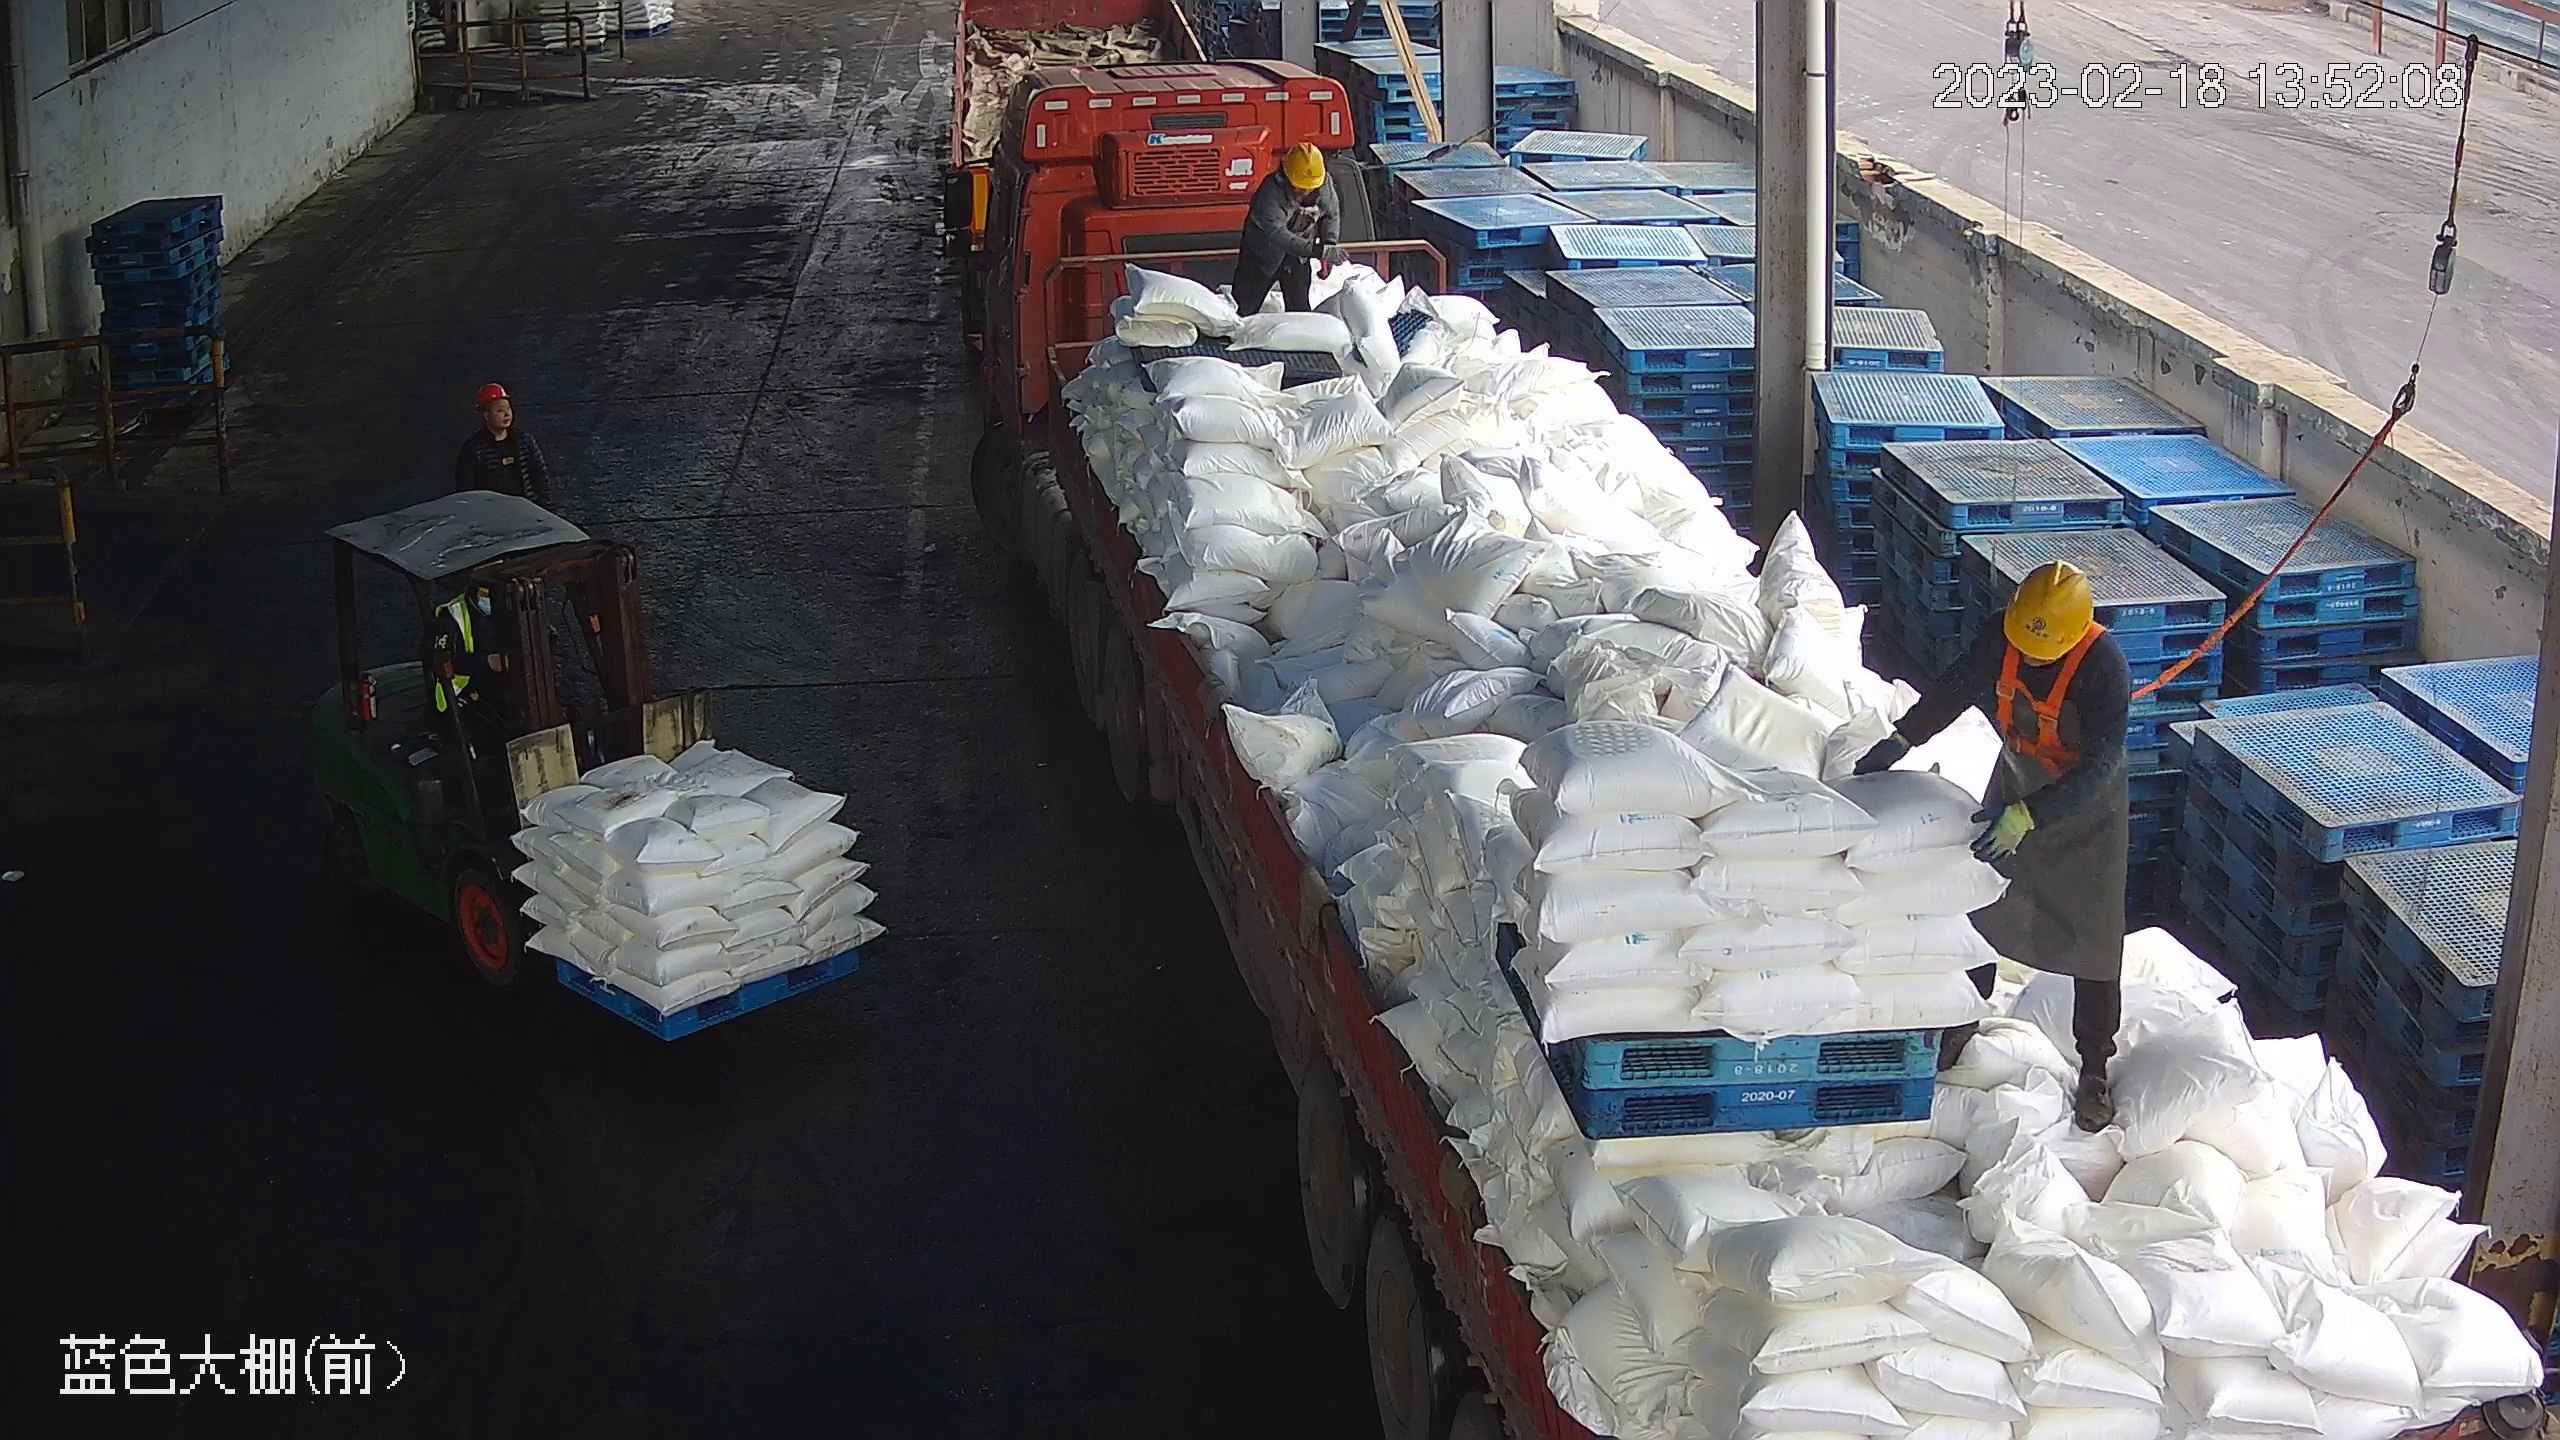belt: (1990, 627, 2127, 765)
head: (1948, 560, 2133, 727), (458, 380, 548, 479), (1258, 144, 1340, 234)
helmet: (2000, 560, 2097, 662), (1282, 143, 1328, 197), (472, 381, 509, 414)
people: (1849, 554, 2139, 1139), (1226, 142, 1349, 320)
truck: (935, 44, 2560, 1440)
